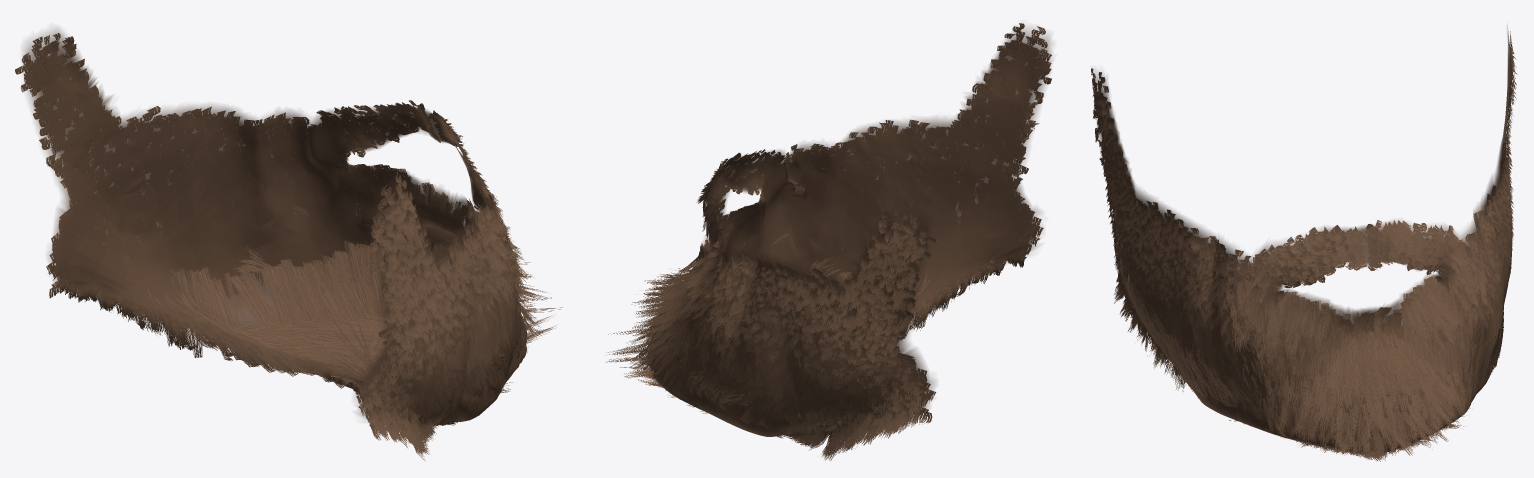
The model's file is beard-m2-tapered.glb.
The picture shows the model from 3 angles, left to right: view 1: azimuth 30°, elevation 25°; view 2: azimuth 150°, elevation 25°; view 3: azimuth 270°, elevation 25°; orthographic projection. The views are drawn at different scales.
Parts seen in each view (by area): view 1: Beard_m2_tapered_root, Beard_m2_tapered_cards; view 2: Beard_m2_tapered_cards, Beard_m2_tapered_root; view 3: Beard_m2_tapered_cards, Beard_m2_tapered_root.
Part boxes in pixels (x1,y1,x2,y2): Beard_m2_tapered_root: (23, 28, 526, 422); Beard_m2_tapered_cards: (15, 33, 562, 461); Beard_m2_tapered_cards: (606, 23, 1051, 460); Beard_m2_tapered_root: (649, 27, 1052, 436); Beard_m2_tapered_cards: (1091, 31, 1517, 461); Beard_m2_tapered_root: (1092, 25, 1511, 454).
Size of the model in its own units: 0.1617 by 0.1318 by 0.1577.
2 materials, 1 textured.
